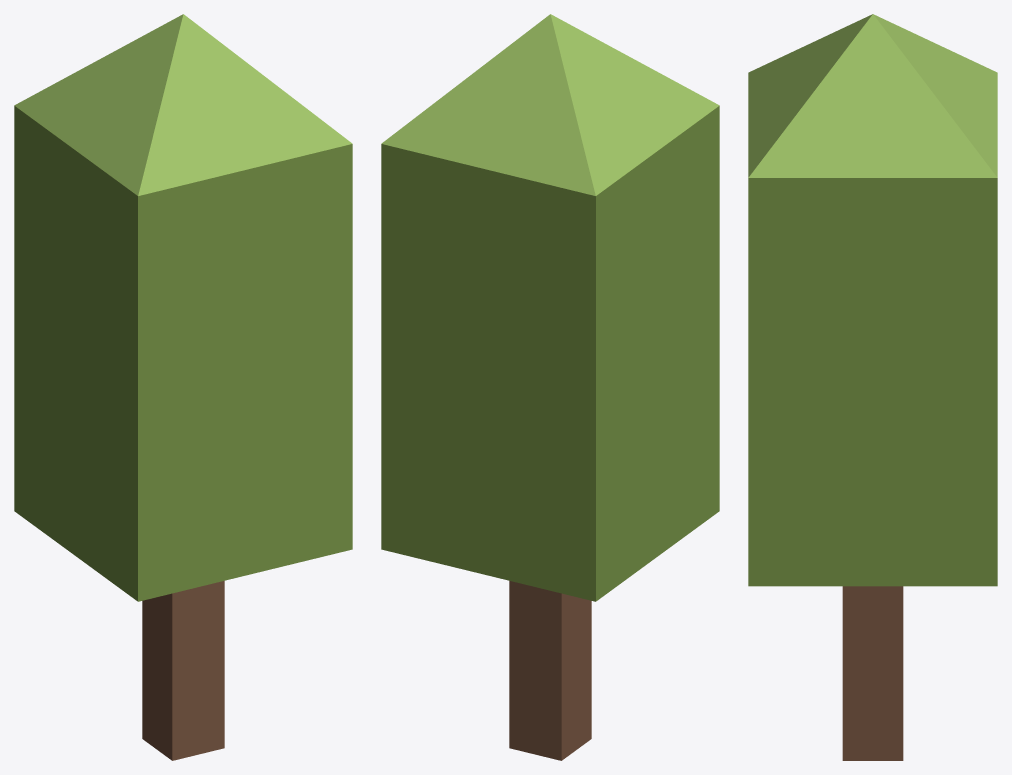
File: voxel_tree_6.fbx
3 renders of one model, left to right at view 1: azimuth 30°, elevation 25°; view 2: azimuth 150°, elevation 25°; view 3: azimuth 270°, elevation 25°, orthographic.
Parts seen in each view (by area): view 1: voxel_tree_6; view 2: voxel_tree_6; view 3: voxel_tree_6.
Part boxes in pixels (box(x1,y1,x2,y2)): voxel_tree_6: box(14, 14, 352, 760); voxel_tree_6: box(381, 14, 719, 760); voxel_tree_6: box(748, 14, 997, 760).
Bounding box in the file's own units: 184 × 598 × 184.
